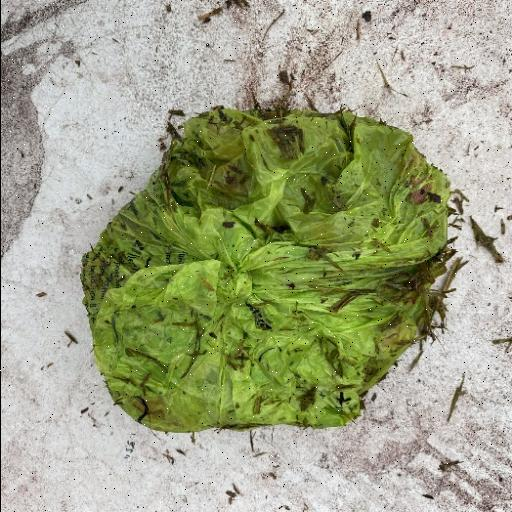Waste: (78, 104, 463, 434)
